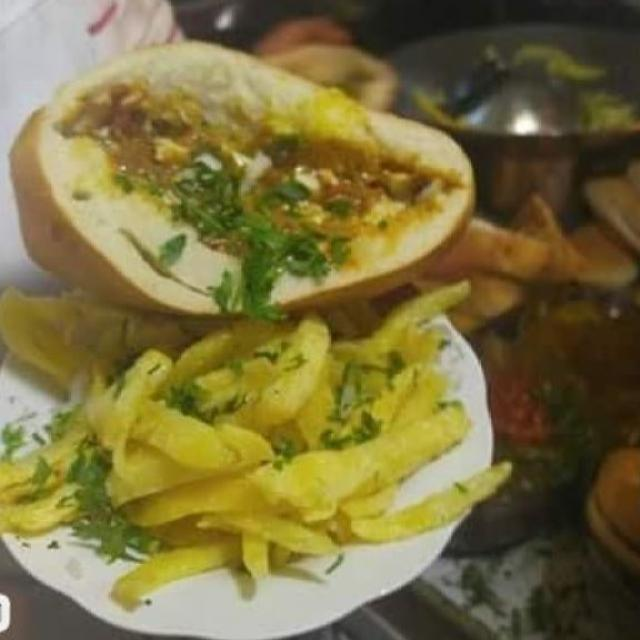Sandwitch tounsi: (0, 71, 487, 293)
